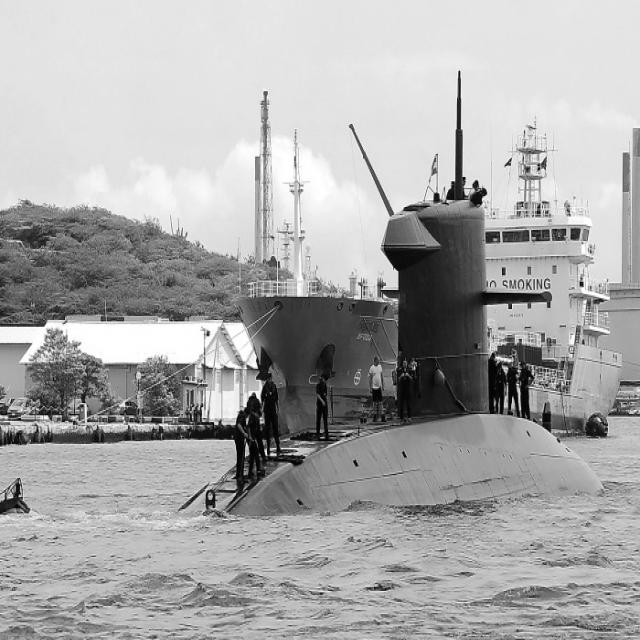submarine: (1, 68, 596, 557)
